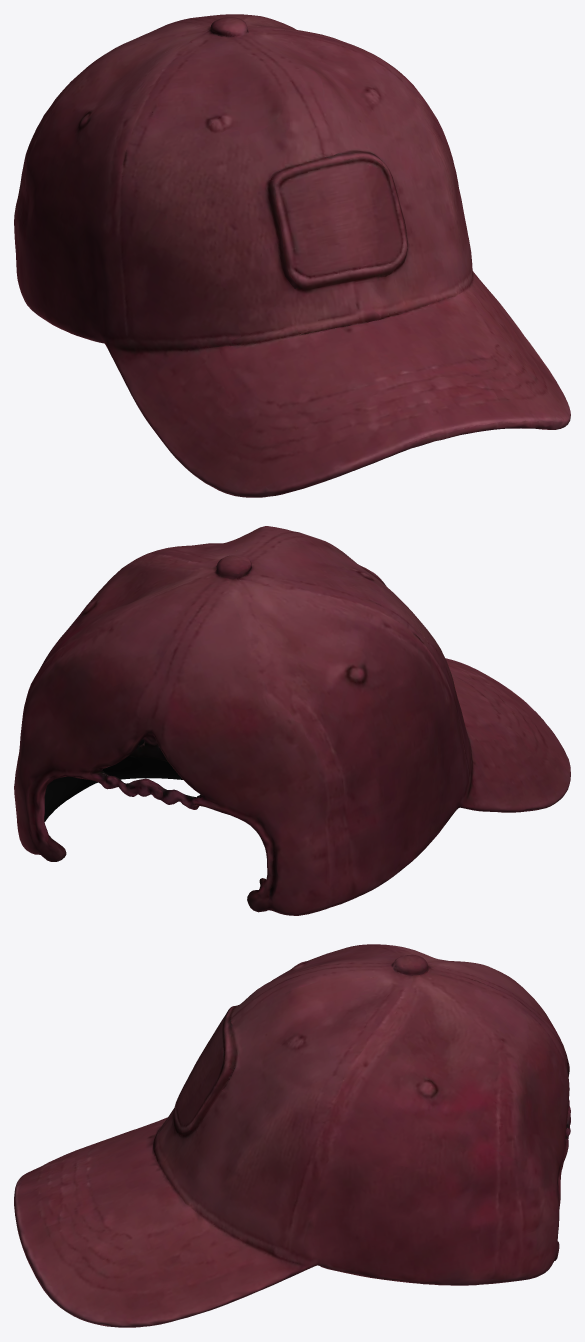
The picture shows the model from 3 angles, top to bottom: view 1: azimuth 30°, elevation 25°; view 2: azimuth 150°, elevation 25°; view 3: azimuth 270°, elevation 25°; orthographic projection. The views are drawn at different scales.
Visible parts, largest first — view 1: Mesh_0; view 2: Mesh_0; view 3: Mesh_0.
Boxes of the visible parts, left/top/right/bottom form: Mesh_0: left=14, top=14, right=570, bottom=497; Mesh_0: left=14, top=526, right=570, bottom=915; Mesh_0: left=14, top=944, right=570, bottom=1327.
Size of the model in its own units: 0.1618 by 0.13 by 0.2255.
Materials: 1 (1 with a texture image).
